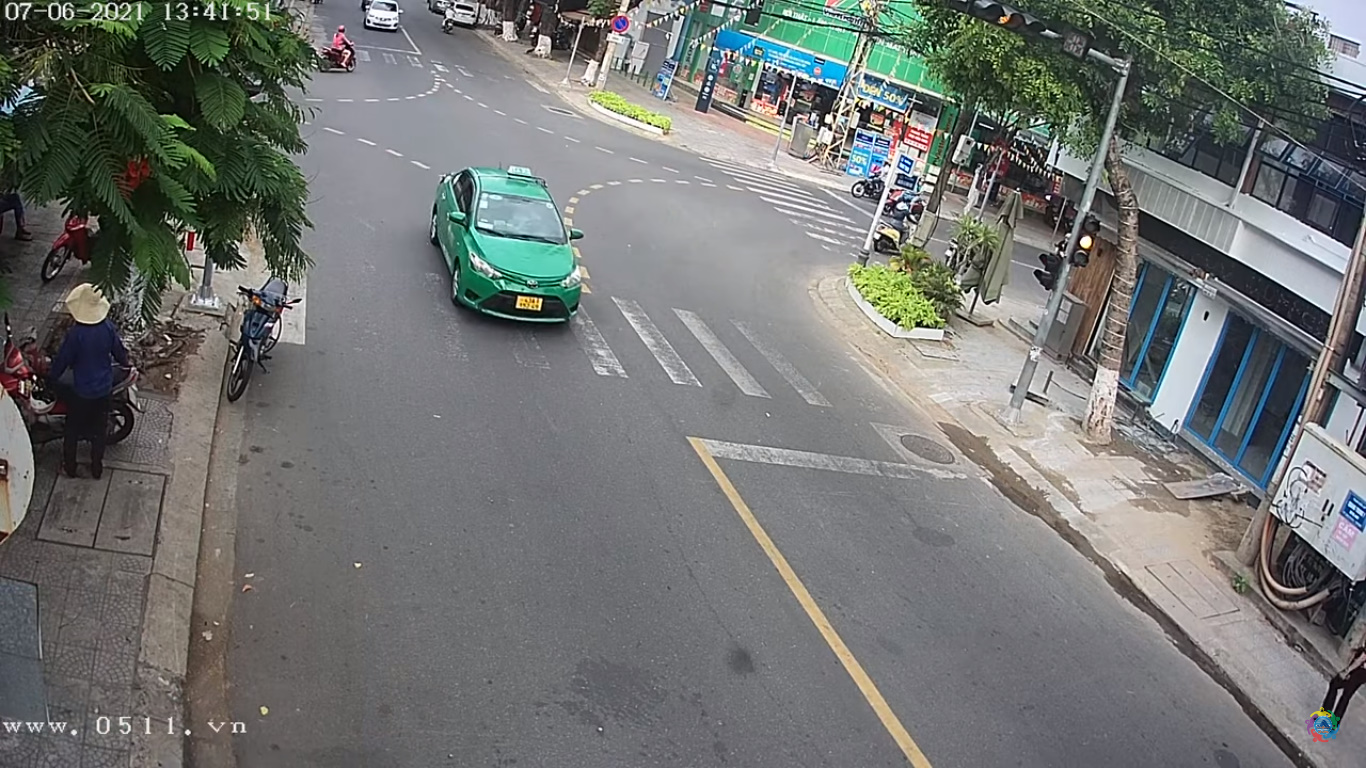car: (435, 167, 590, 328)
